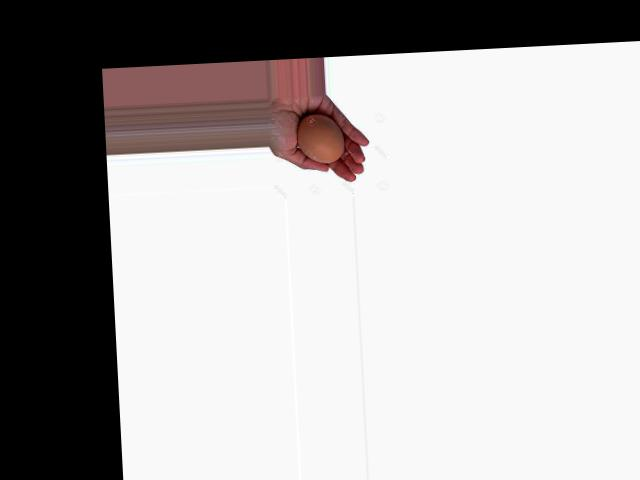egg: (296, 112, 346, 164)
